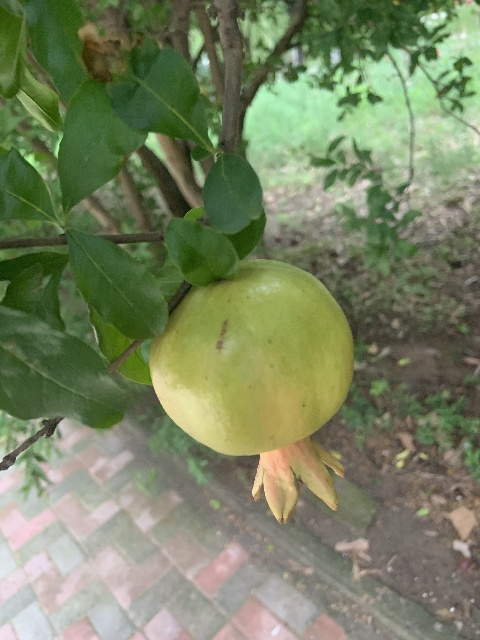mid-growth: (150, 261, 355, 524)
